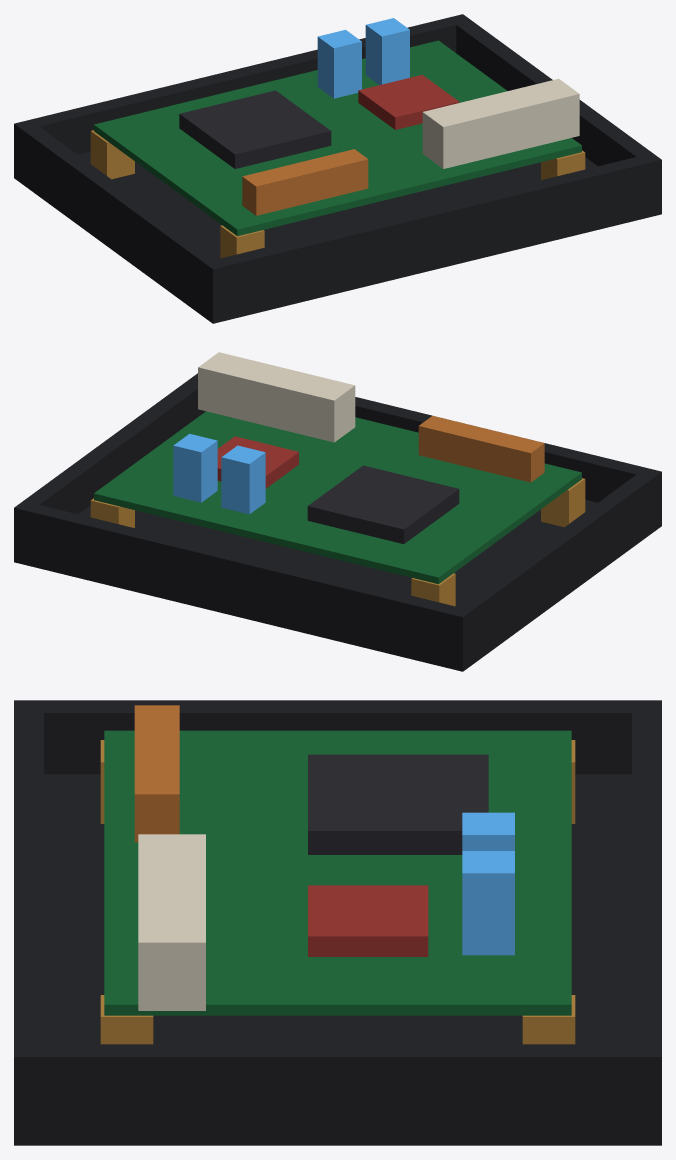
File: pcb.glb
3 renders of one model, top to bottom at view 1: azimuth 30°, elevation 25°; view 2: azimuth 150°, elevation 25°; view 3: azimuth 270°, elevation 25°, orthographic. The views are drawn at different scales.
Bounding box in the file's own units: 112 × 26.6 × 86.
